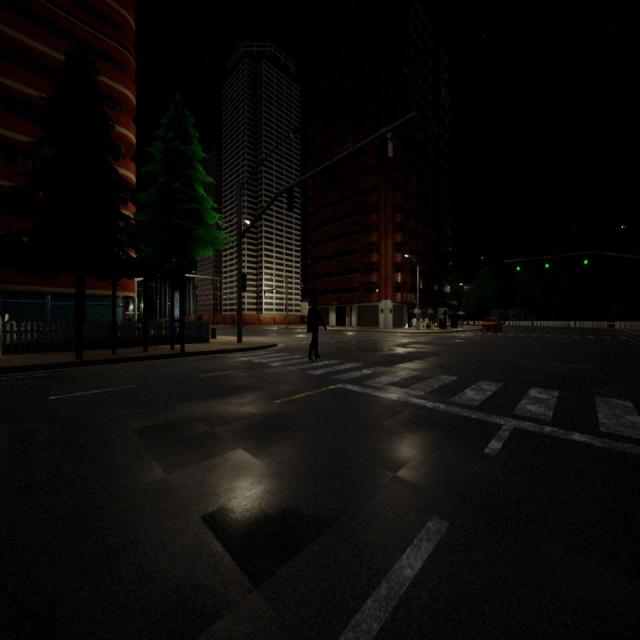Pedestrian: (306, 299, 327, 360)
Vehicle: (480, 317, 503, 333)
traffic_light: (377, 132, 390, 174), (287, 185, 296, 212), (242, 272, 248, 292), (583, 254, 588, 264), (545, 256, 549, 268), (516, 260, 520, 271), (284, 304, 286, 312), (196, 290, 198, 297), (257, 290, 259, 296), (206, 291, 208, 297), (271, 288, 272, 294), (218, 293, 220, 296), (264, 290, 265, 294)
